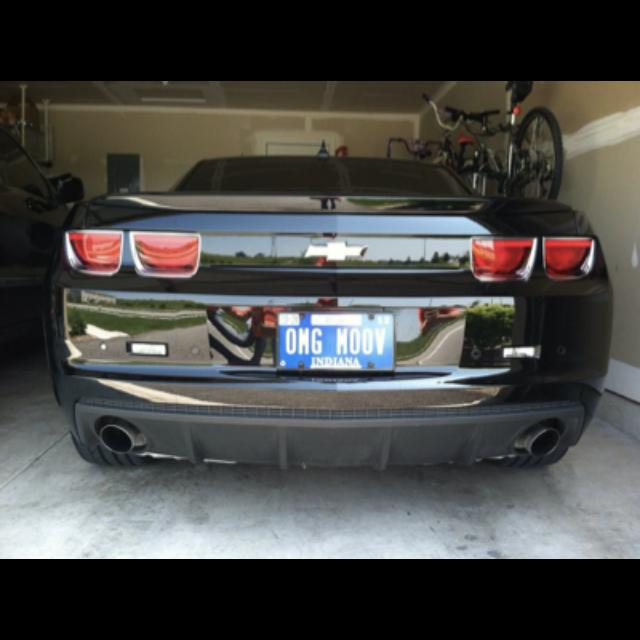carPlate: (278, 310, 396, 370)
